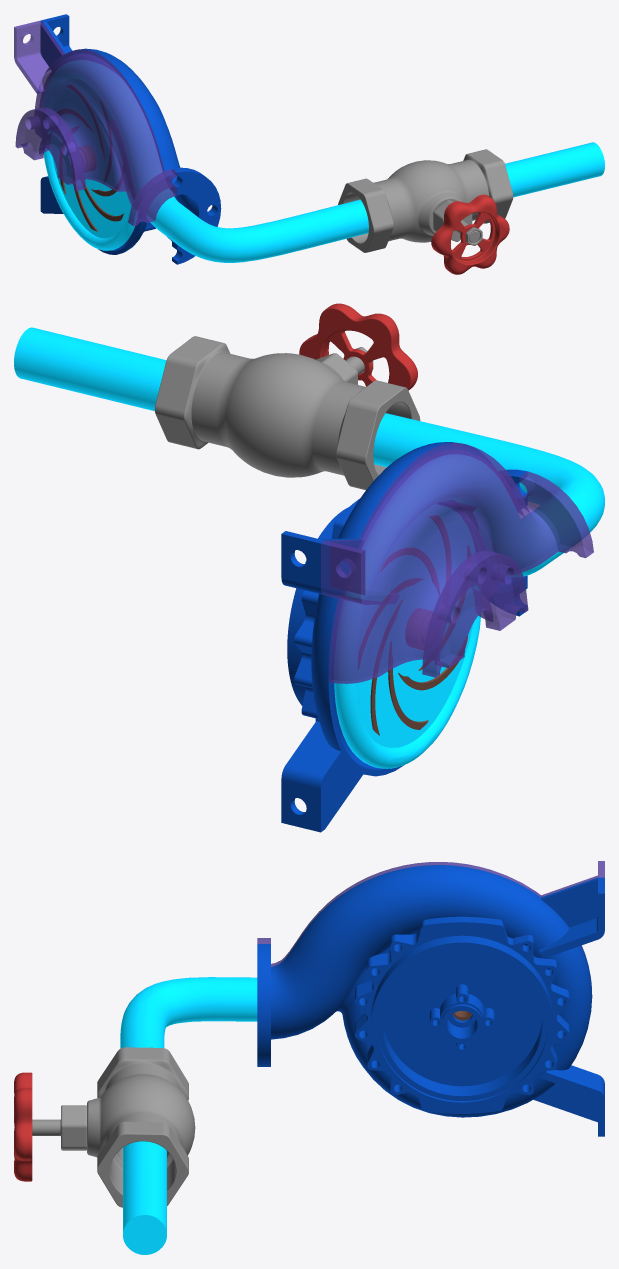
Rendered from bombaV1.fbx.
3 views of the same model, one above another, from view 1: azimuth 30°, elevation 25°; view 2: azimuth 150°, elevation 25°; view 3: azimuth 270°, elevation 25° (orthographic). The views are drawn at different scales.
Parts seen in each view (by area): view 1: Bomba delantera, NurbsPath.Caneria.chico, Vaálvula Estructura, Bomba trasera, Cylinder.interior.chico, Válvula, Impulsor; view 2: Bomba delantera, NurbsPath.Caneria.chico, Vaálvula Estructura, Bomba trasera, Cylinder.interior.chico, Válvula, Impulsor, Tapa trasera; view 3: Bomba trasera, Tapa trasera, Vaálvula Estructura, NurbsPath.Caneria.chico, Válvula, Bomba delantera.
Part boxes in pixels (box(x1,y1,x2,y2)): Bomba delantera: box(14, 20, 177, 226); NurbsPath.Caneria.chico: box(43, 60, 604, 262); Vaálvula Estructura: box(338, 149, 513, 252); Bomba trasera: box(40, 14, 221, 264); Cylinder.interior.chico: box(51, 79, 130, 238); Válvula: box(431, 194, 509, 274); Impulsor: box(57, 85, 124, 231); Bomba delantera: box(321, 443, 593, 683); NurbsPath.Caneria.chico: box(14, 327, 604, 768); Vaálvula Estructura: box(154, 336, 420, 489); Bomba trasera: box(281, 442, 527, 832); Cylinder.interior.chico: box(358, 505, 477, 747); Válvula: box(299, 303, 417, 390); Impulsor: box(358, 516, 470, 735); Tapa trasera: box(287, 507, 363, 705); Bomba trasera: box(257, 865, 604, 1136); Tapa trasera: box(371, 935, 553, 1107); Vaálvula Estructura: box(32, 1047, 195, 1207); NurbsPath.Caneria.chico: box(120, 977, 257, 1254); Válvula: box(14, 1072, 32, 1181); Bomba delantera: box(257, 861, 604, 987).
Bounding box in the file's own units: 698 × 315 × 660.
